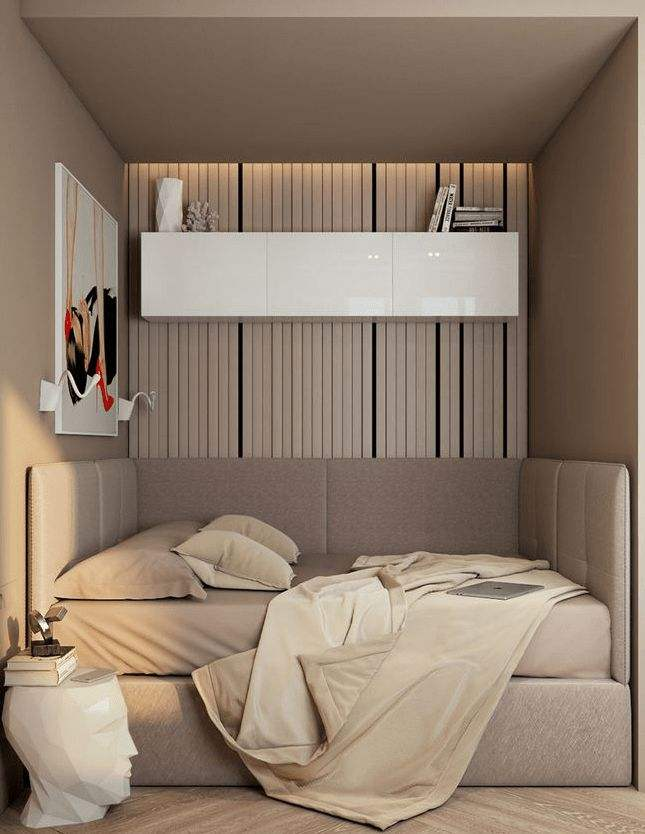床: (29, 458, 645, 806)
枕头: (58, 520, 300, 606)
